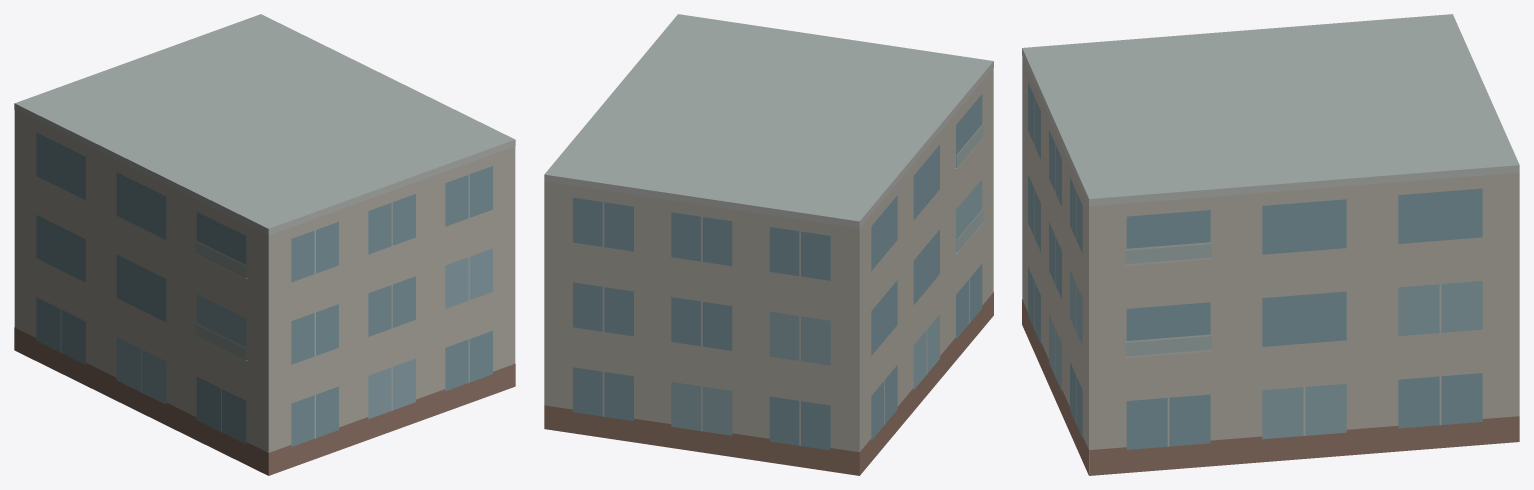
File: survey-upis-32707339.glb
3 views of the same model, side by side, from view 1: azimuth 30°, elevation 25°; view 2: azimuth 150°, elevation 25°; view 3: azimuth 270°, elevation 25° (orthographic). The views are drawn at different scales.
Parts seen in each view (by area): view 1: survey-upis-32707339.tmp; view 2: survey-upis-32707339.tmp; view 3: survey-upis-32707339.tmp.
Boxes of the visible parts, x1,y1,x2,y2 form: survey-upis-32707339.tmp: [14, 14, 515, 475]; survey-upis-32707339.tmp: [544, 14, 993, 475]; survey-upis-32707339.tmp: [1022, 14, 1519, 475].
Bounding box in the file's own units: 13.14 × 9.15 × 14.92.
